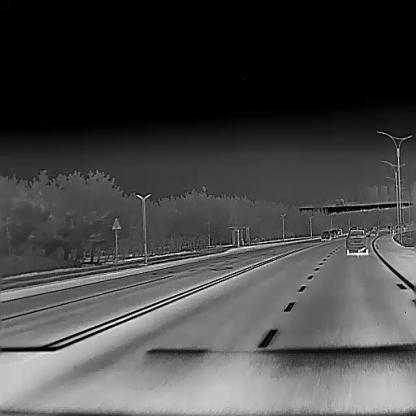car: (344, 227, 369, 254), (321, 230, 331, 240), (331, 229, 338, 237), (370, 226, 377, 234), (337, 228, 343, 235), (365, 229, 370, 236)
